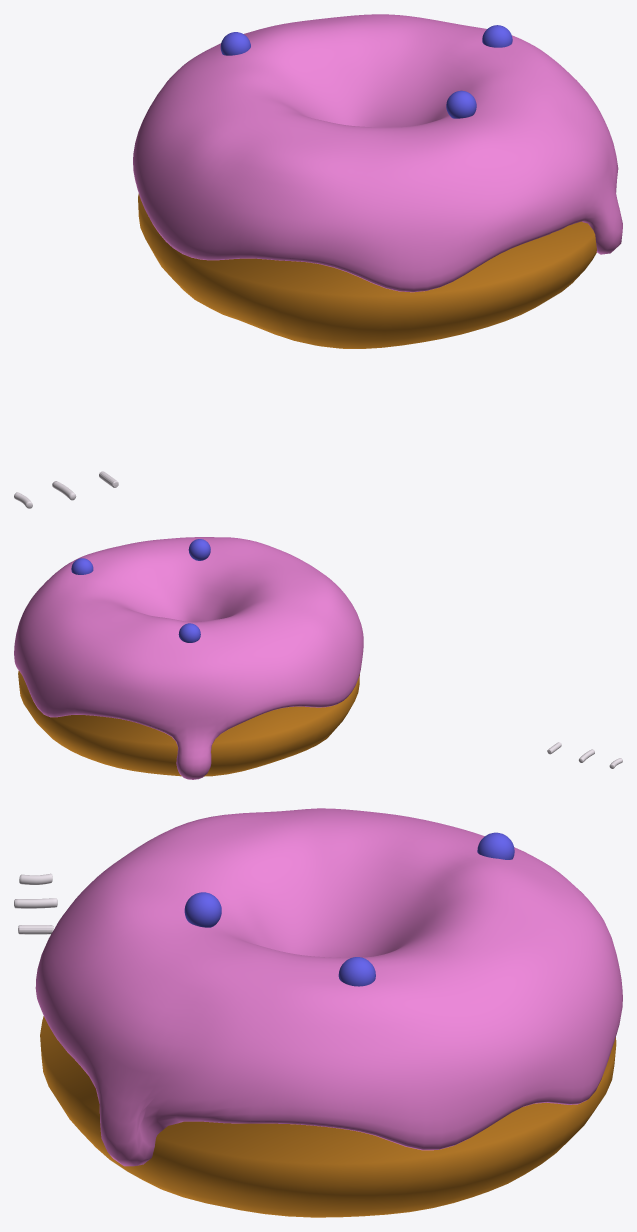
The model's file is donut.fbx.
3 renders of one model, top to bottom at view 1: azimuth 30°, elevation 25°; view 2: azimuth 150°, elevation 25°; view 3: azimuth 270°, elevation 25°, orthographic. The views are drawn at different scales.
Parts seen in each view (by area): view 1: Icing, Donut, Sphere.003; view 2: Icing, Donut, Sphere.003, Sphere.001; view 3: Icing, Donut, Sphere.003, Sphere.002, Sphere.001.
Boxes of the visible parts, x1=… form: Icing: x1=133, y1=14, x2=622, y2=292; Donut: x1=138, y1=193, x2=596, y2=348; Sphere.003: x1=446, y1=90, x2=476, y2=118; Icing: x1=14, y1=537, x2=363, y2=779; Donut: x1=18, y1=670, x2=359, y2=776; Sphere.003: x1=188, y1=539, x2=210, y2=560; Sphere.001: x1=178, y1=623, x2=200, y2=642; Icing: x1=35, y1=808, x2=622, y2=1166; Donut: x1=40, y1=1016, x2=616, y2=1217; Sphere.003: x1=184, y1=892, x2=221, y2=927; Sphere.002: x1=338, y1=957, x2=375, y2=986; Sphere.001: x1=477, y1=832, x2=514, y2=859.
Bounding box in the file's own units: 14.67 × 4.89 × 9.26.
